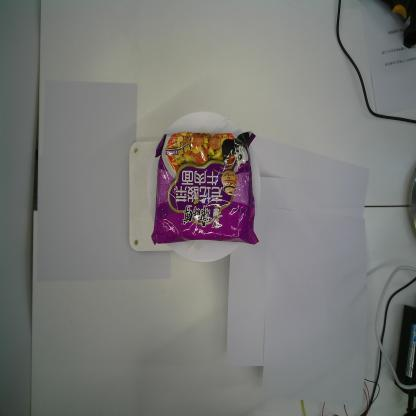Instant Noodles: (151, 129, 258, 247)
